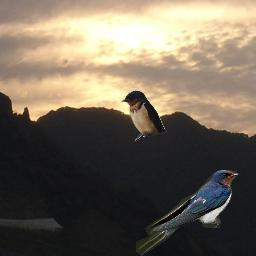Swallow: (136, 170, 239, 256), (121, 90, 167, 142)
